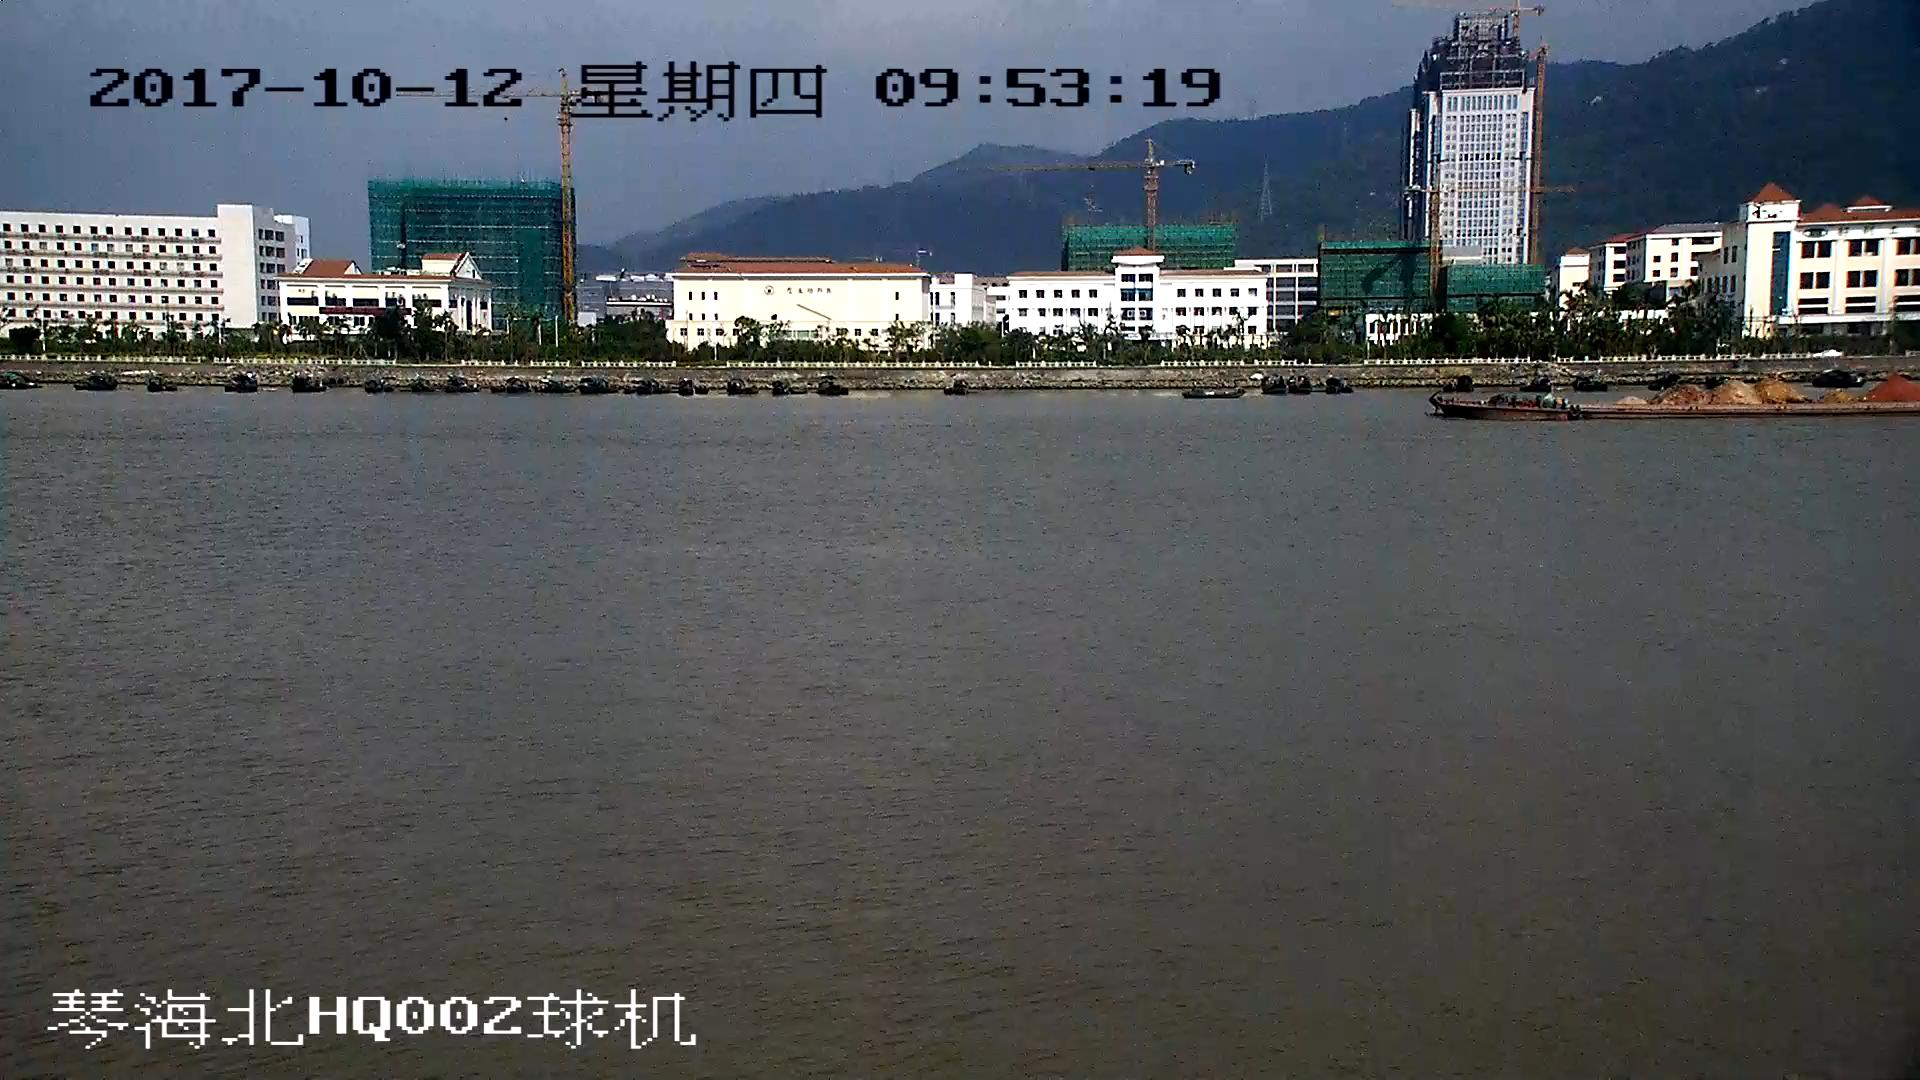ore carrier: (1438, 375, 1920, 422)
